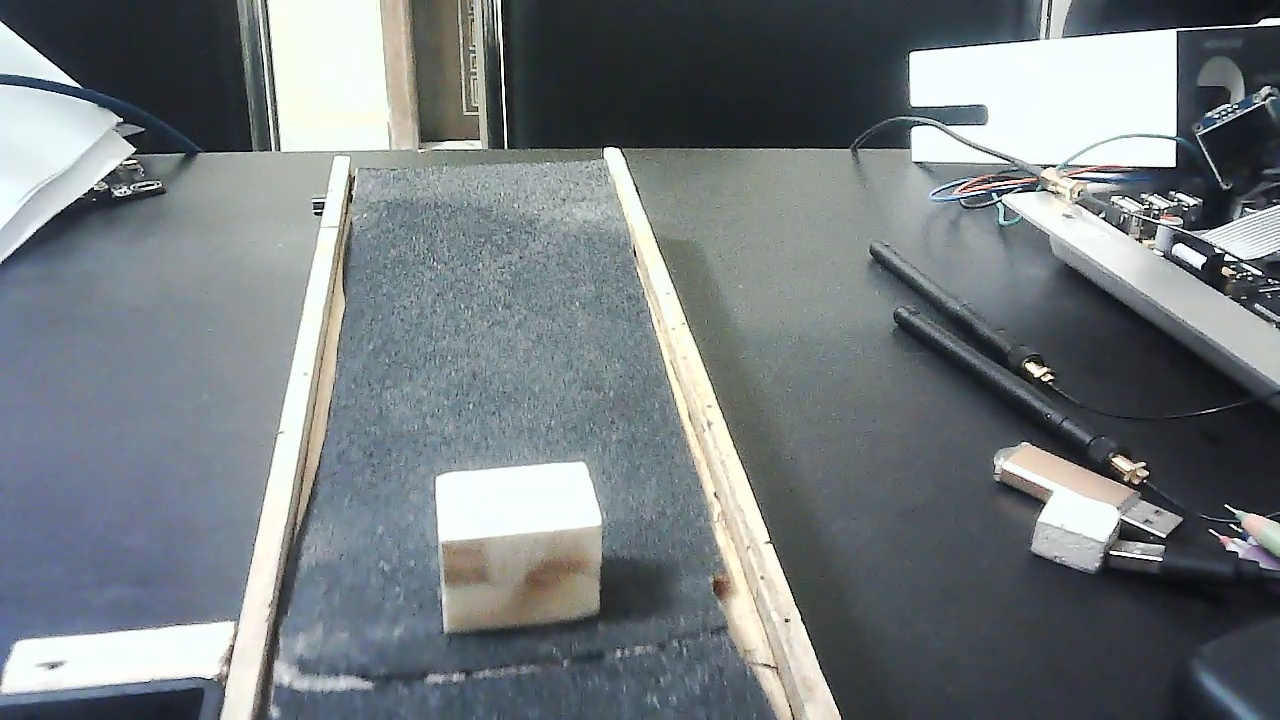Medium: (435, 462, 604, 631)
